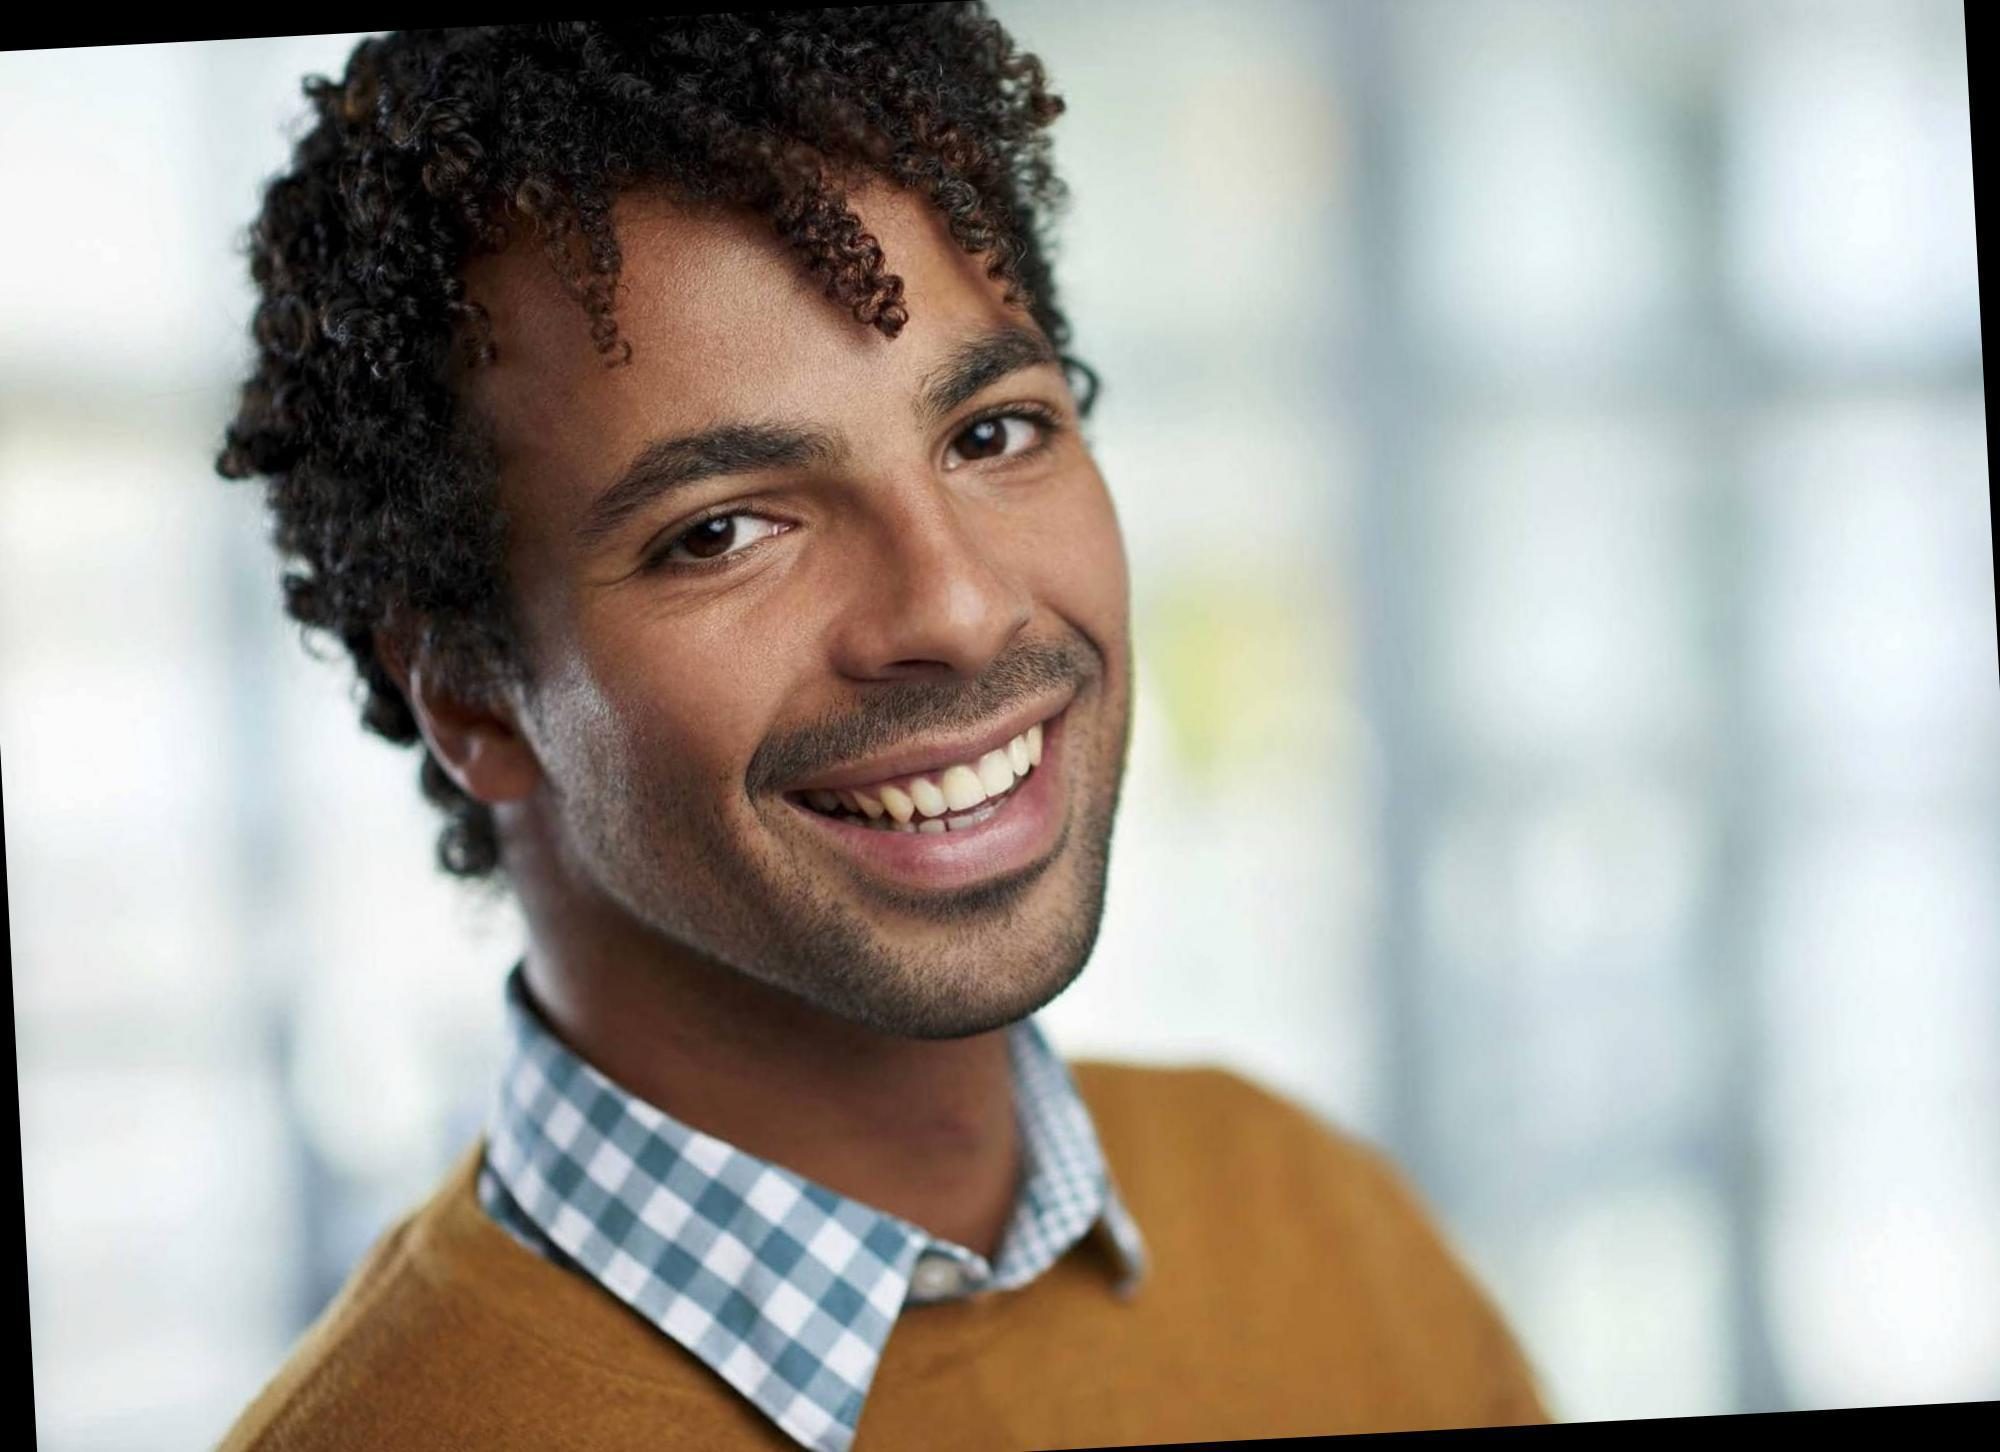Sober: (531, 214, 1135, 964)
